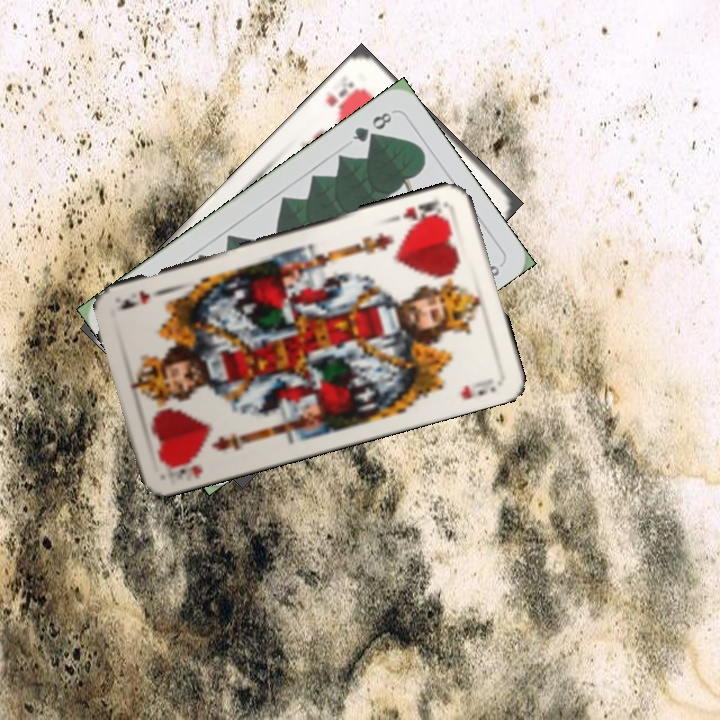G8: (348, 108, 395, 145)
HK: (322, 77, 366, 116), (161, 452, 205, 487), (398, 196, 446, 228)
